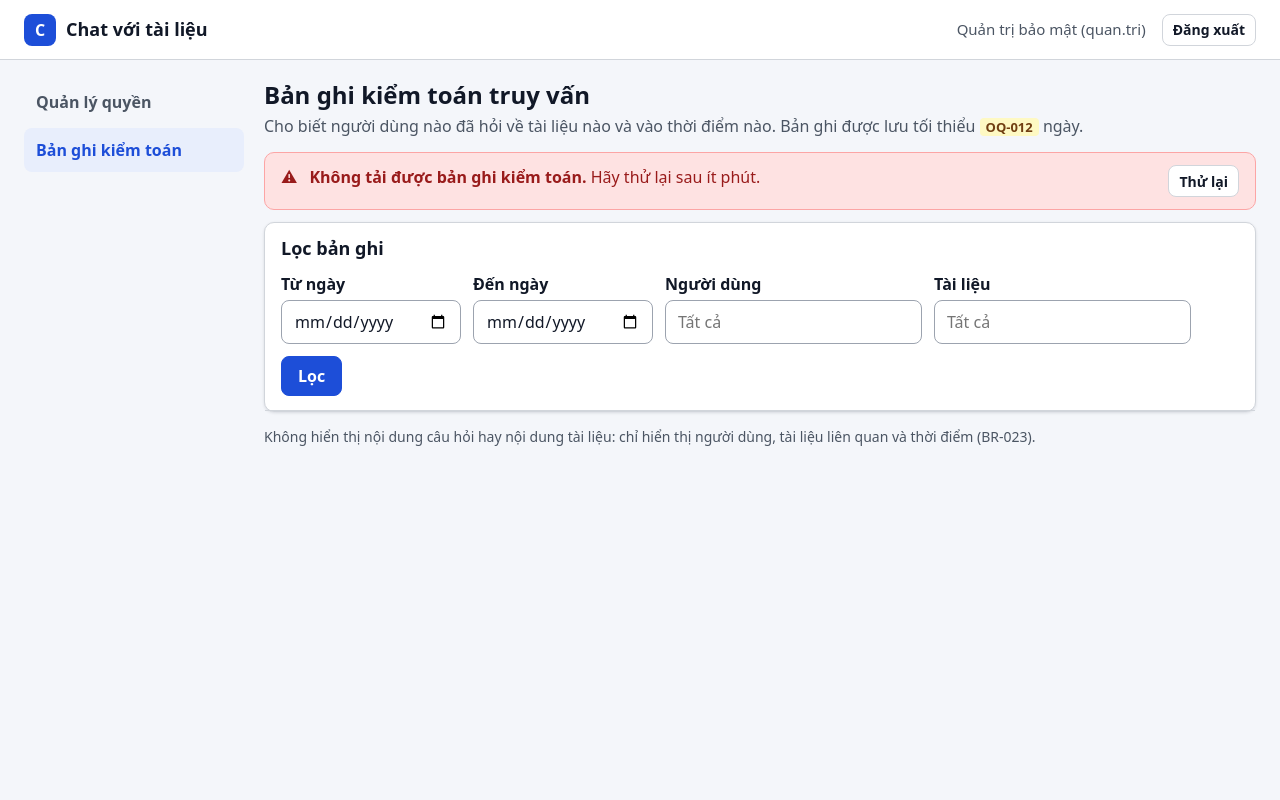
S-06 Bản ghi kiểm toán › s06-empty và s06-error (có Thử lại)
Expected: the message shows "Không tải được bản ghi kiểm toán.", 309,166 -> 586,188
Click the button "Thử lại".
click(1204, 181)  # box 1168,165 -> 1239,197
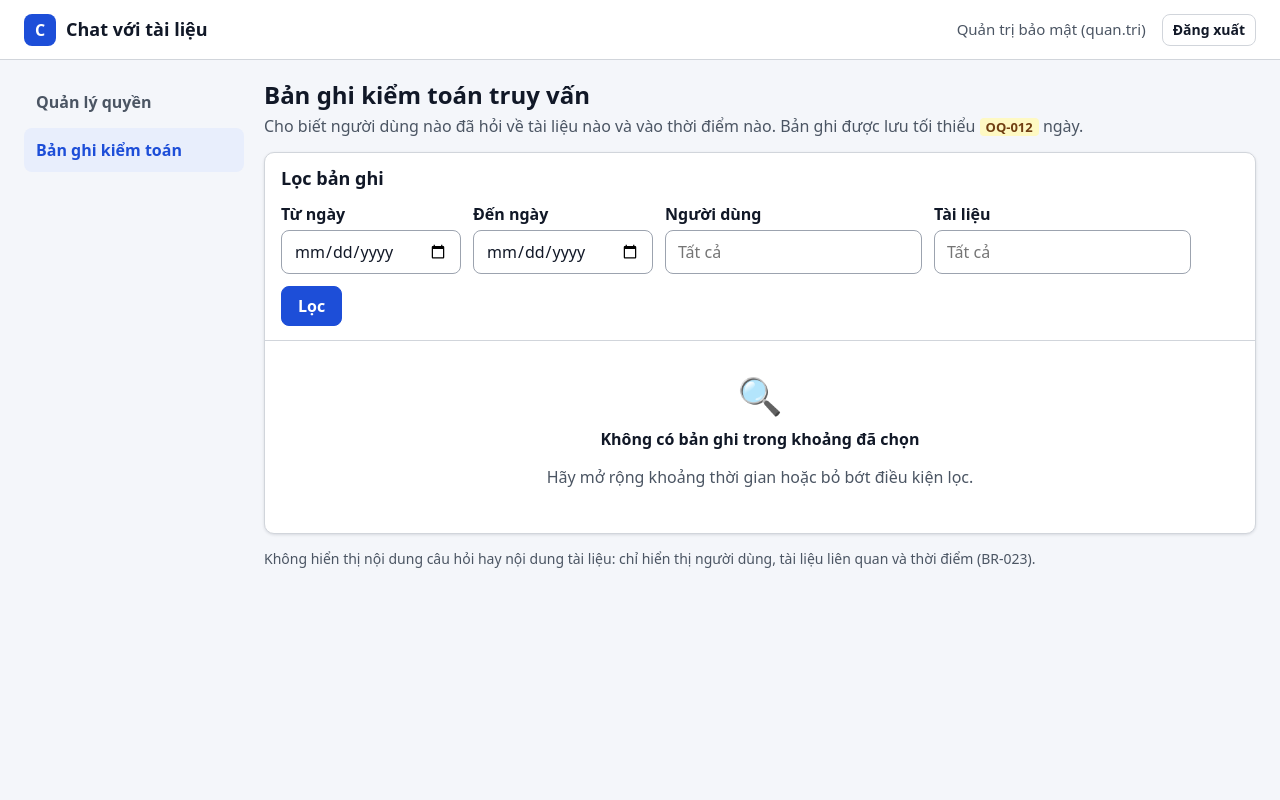
Expected: the heading "Không có bản ghi trong khoảng đã chọn" is shown, 600,428 -> 920,450
